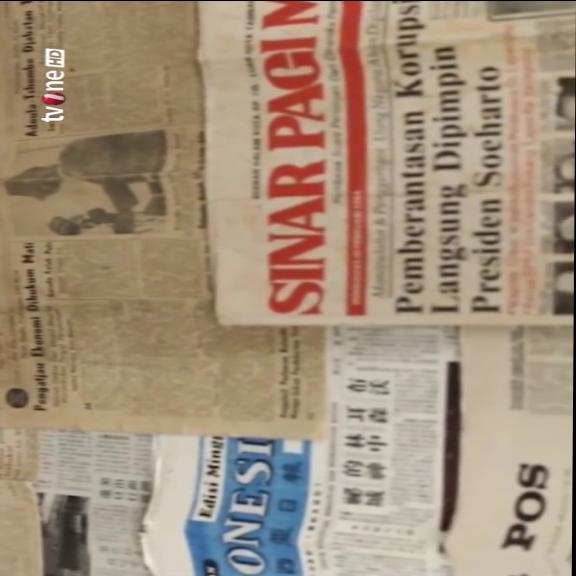Kertas: (2, 324, 570, 574), (0, 9, 309, 430), (198, 3, 570, 324)
